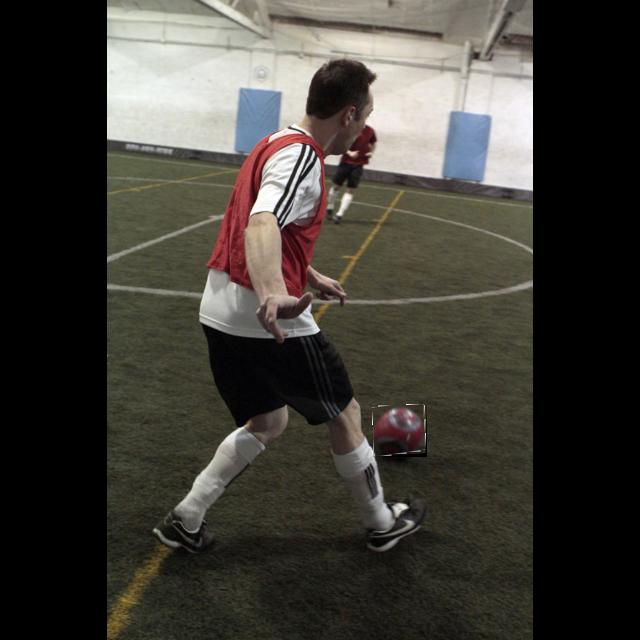Football: (373, 405, 427, 457)
